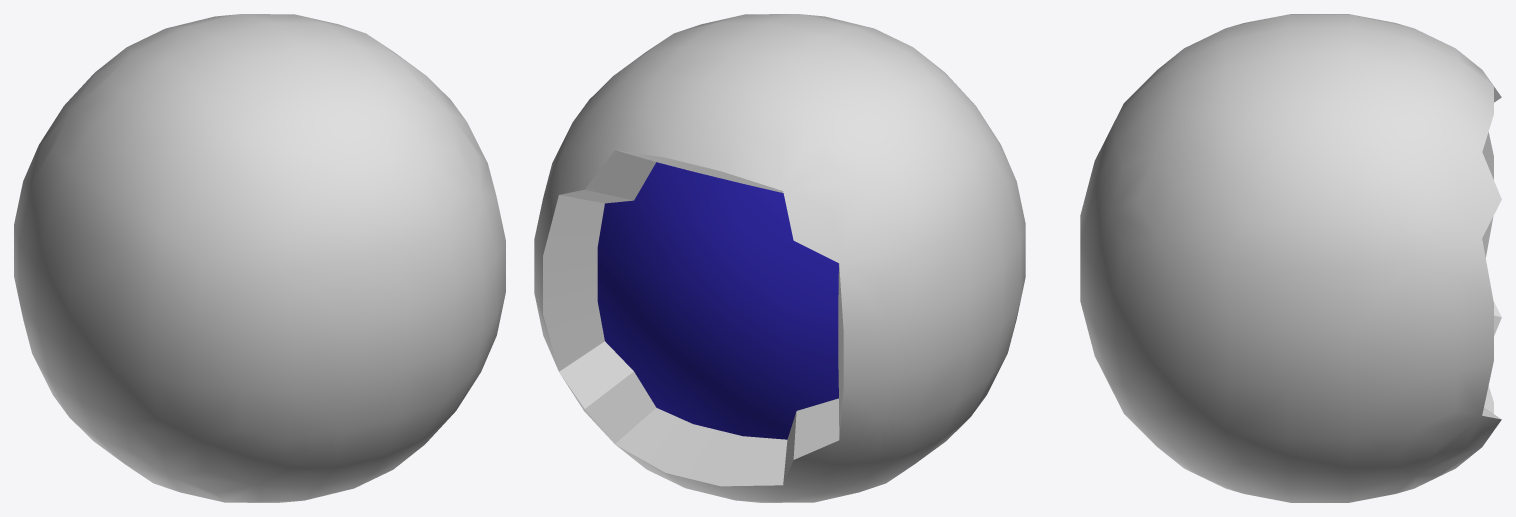
Rendered from ship2.fbx.
3 renders of one model, left to right at view 1: azimuth 30°, elevation 25°; view 2: azimuth 150°, elevation 25°; view 3: azimuth 270°, elevation 25°, orthographic.
Parts seen in each view (by area): view 1: Sphere; view 2: Sphere, Sphere.002; view 3: Sphere.
Part boxes in pixels (x1,y1,x2,y2): Sphere: [14, 14, 505, 502]; Sphere: [534, 14, 1025, 502]; Sphere.002: [597, 162, 838, 439]; Sphere: [1080, 14, 1501, 502].
Bounding box in the file's own units: 90.13 × 90.34 × 84.37.
